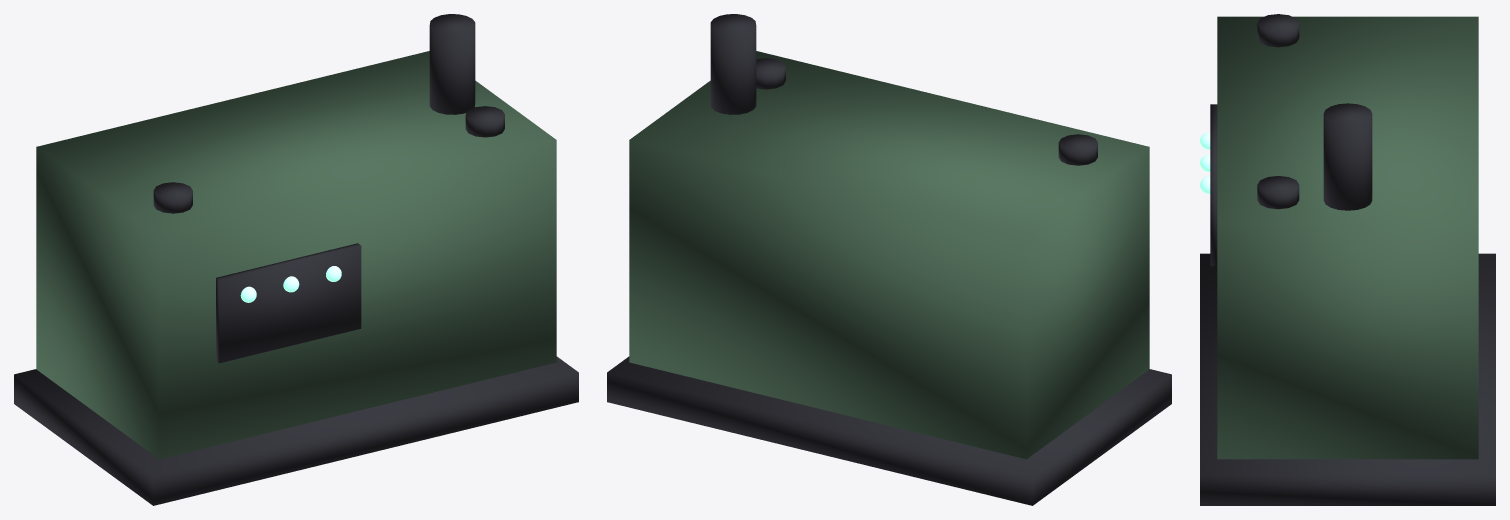
File: generator.glb
The picture shows the model from 3 angles, left to right: view 1: azimuth 30°, elevation 25°; view 2: azimuth 150°, elevation 25°; view 3: azimuth 270°, elevation 25°; orthographic projection. The views are drawn at different scales.
Parts seen in each view (by area): view 1: body, frame, panel, exhaust, cap, cap.001; view 2: body, frame, exhaust, cap, cap.001; view 3: body, frame, exhaust, panel, cap, cap.001.
Boxes of the visible parts, x1,y1,x2,y2 form: body: (36, 51, 556, 459); frame: (14, 356, 578, 505); panel: (216, 243, 361, 363); exhaust: (429, 14, 475, 114); cap: (153, 182, 192, 213); cap.001: (465, 106, 504, 137); body: (629, 51, 1149, 459); frame: (607, 356, 1171, 505); exhaust: (710, 14, 756, 114); cap: (1058, 134, 1097, 165); cap.001: (756, 58, 785, 89); body: (1217, 16, 1478, 459); frame: (1200, 253, 1495, 505); exhaust: (1323, 103, 1372, 210); panel: (1210, 104, 1217, 266); cap: (1257, 14, 1299, 47); cap.001: (1257, 176, 1299, 209).
Size of what is drawn, in the model's own units: 1.5 by 1.15 by 0.85.
